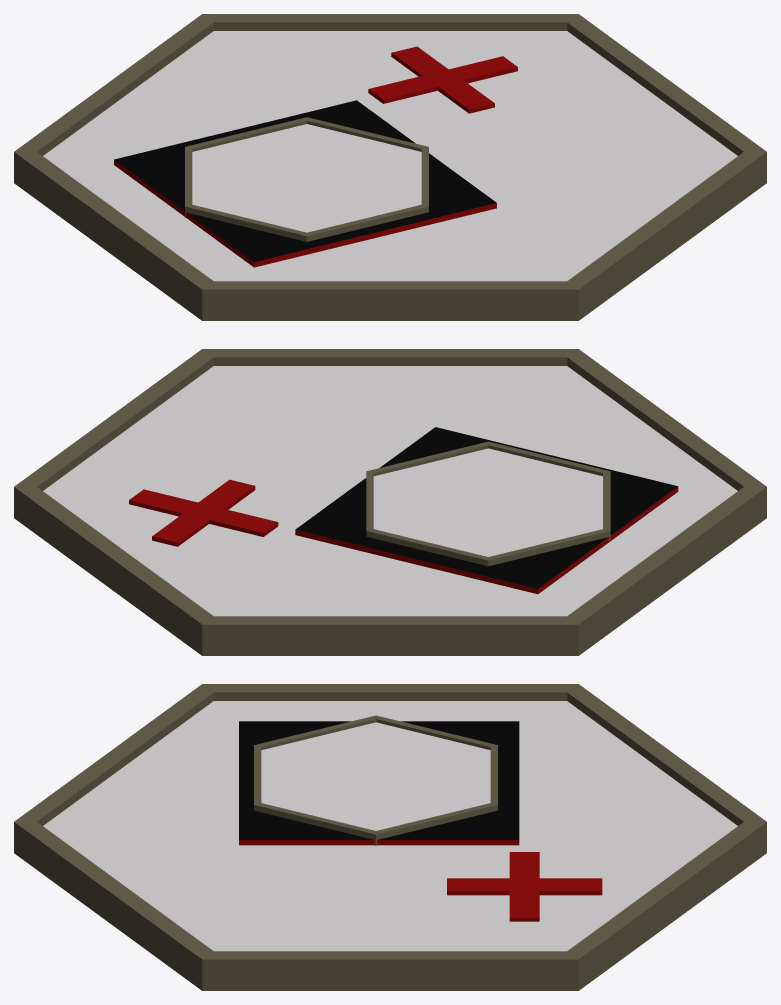
Rendered from AddDice.fbx.
3 renders of one model, top to bottom at view 1: azimuth 30°, elevation 25°; view 2: azimuth 150°, elevation 25°; view 3: azimuth 270°, elevation 25°, orthographic.
Parts seen in each view (by area): view 1: DiceAdd; view 2: DiceAdd; view 3: DiceAdd.
Part boxes in pixels (box(x1,y1,x2,y2)): DiceAdd: box(14, 14, 766, 320); DiceAdd: box(14, 349, 766, 655); DiceAdd: box(14, 684, 766, 990).
Bounding box in the file's own units: 314 × 18.02 × 363.
